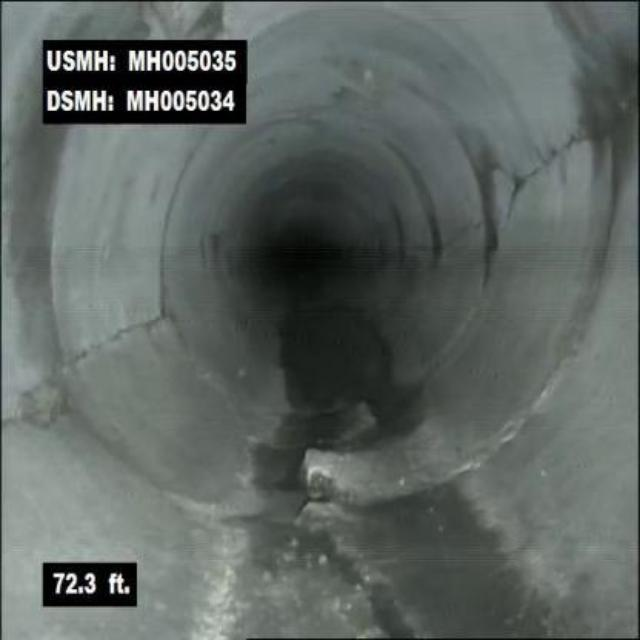Buckling: (297, 443, 412, 591)
Crack: (509, 112, 611, 197), (58, 314, 171, 378)
Hole: (2, 382, 55, 435), (369, 595, 425, 638)
